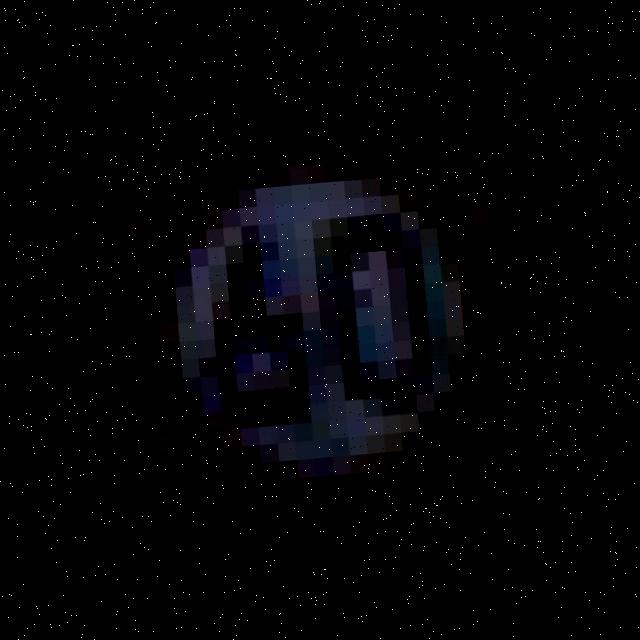Ograniczenie predkosci do 60: (111, 100, 526, 542)
